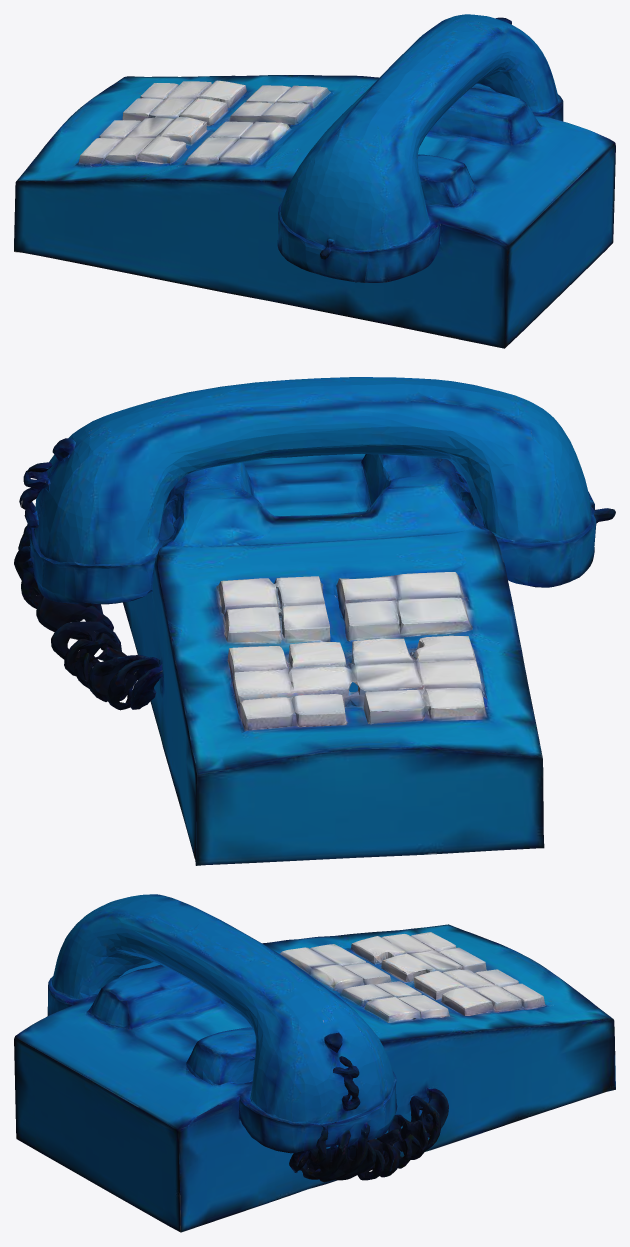
The model's file is teal_telephone_on_side_table_000.glb.
The picture shows the model from 3 angles, top to bottom: view 1: azimuth 30°, elevation 25°; view 2: azimuth 150°, elevation 25°; view 3: azimuth 270°, elevation 25°; orthographic projection. The views are drawn at different scales.
Visible parts, largest first — view 1: phase2_final_teal_telephone_on_side_table_000.obj; view 2: phase2_final_teal_telephone_on_side_table_000.obj; view 3: phase2_final_teal_telephone_on_side_table_000.obj.
Boxes of the visible parts, x1,y1,x2,y2 form: phase2_final_teal_telephone_on_side_table_000.obj: (14,14,615,348); phase2_final_teal_telephone_on_side_table_000.obj: (14,377,615,865); phase2_final_teal_telephone_on_side_table_000.obj: (14,894,615,1232).
Size of the model in its own units: 0.2285 by 0.0982 by 0.2489.
Materials: 1 (1 with a texture image).
